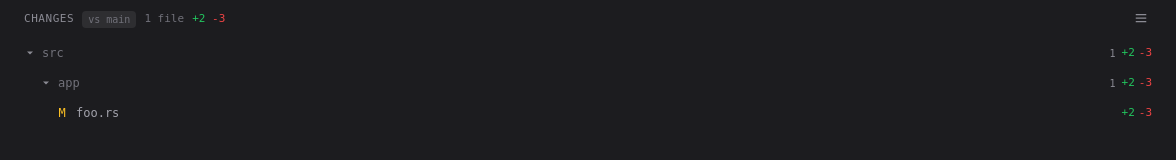
Test: DiffFileList view-mode toggle + flat list › toggles from tree to flat and shows the inline dir prefix
Click the button titled "Switch to flat list" at {"x": 1141, "y": 19}, box [1130, 8, 1152, 30]
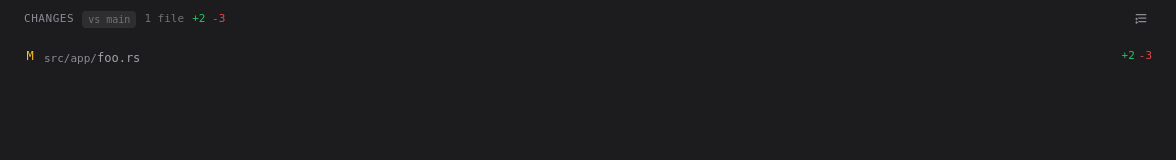
Result: the button "M src/app/foo.rs +2 -3" is shown at [12, 38, 1164, 74]
